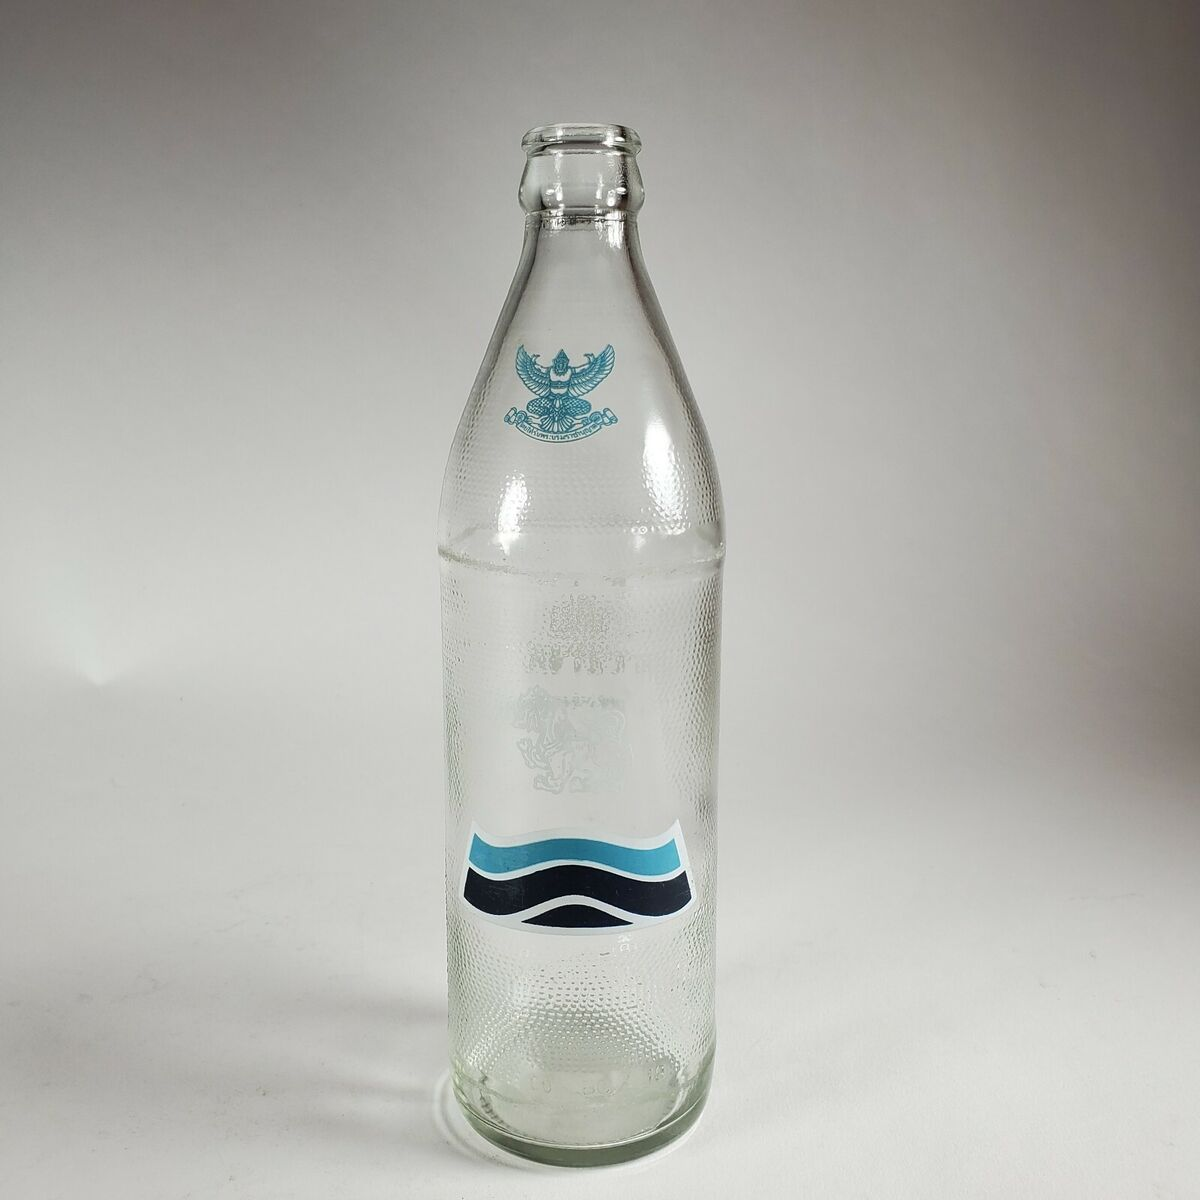glass_bottle: (411, 95, 743, 1186)
